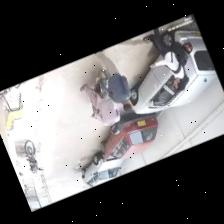person: (142, 28, 185, 91), (94, 49, 131, 111), (80, 84, 120, 134)
